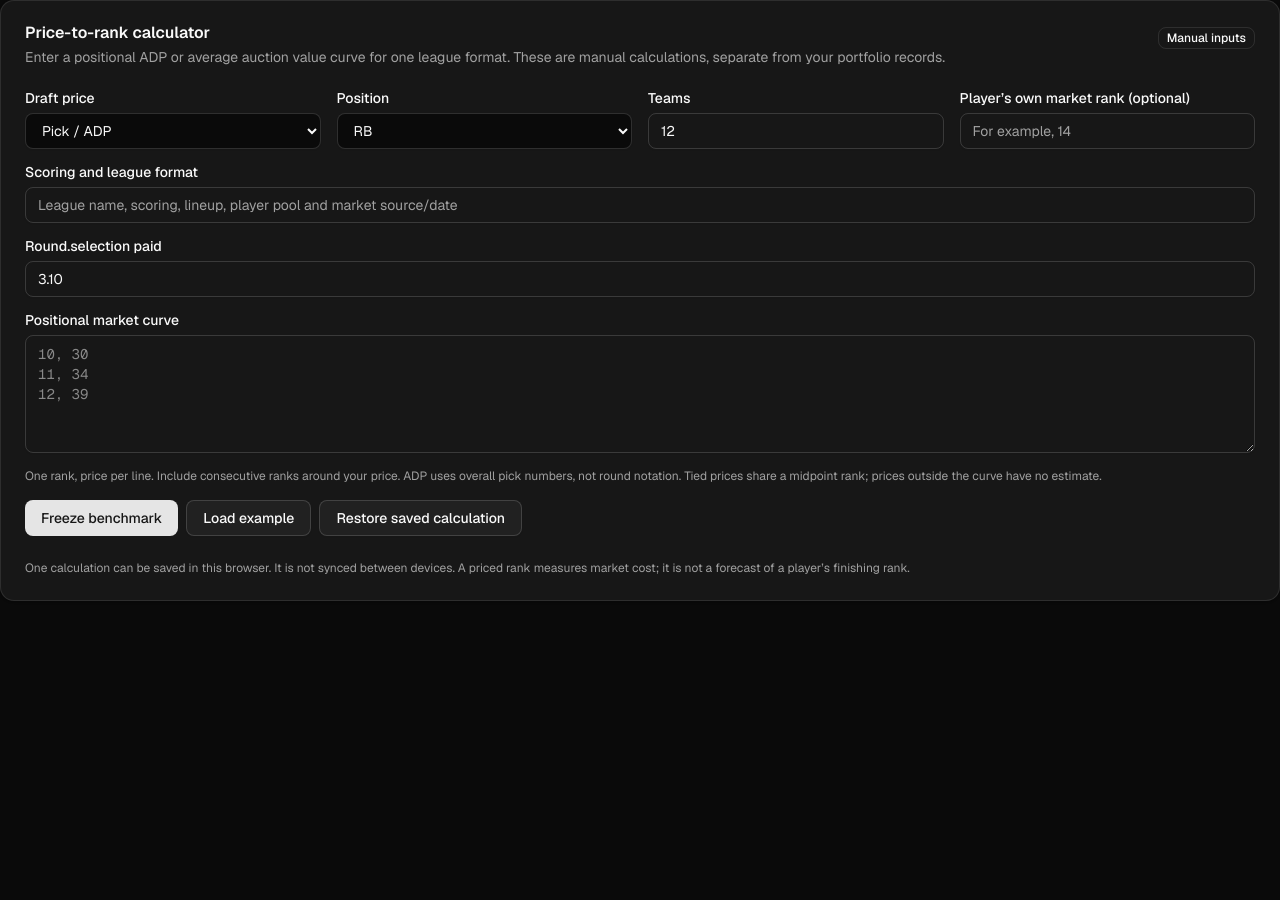
Test: DraftValueCalculator › shows input errors and leaves the benchmark editable
Click the button "Freeze benchmark" at (102, 518), box x1=25 y1=500 x2=178 y2=536
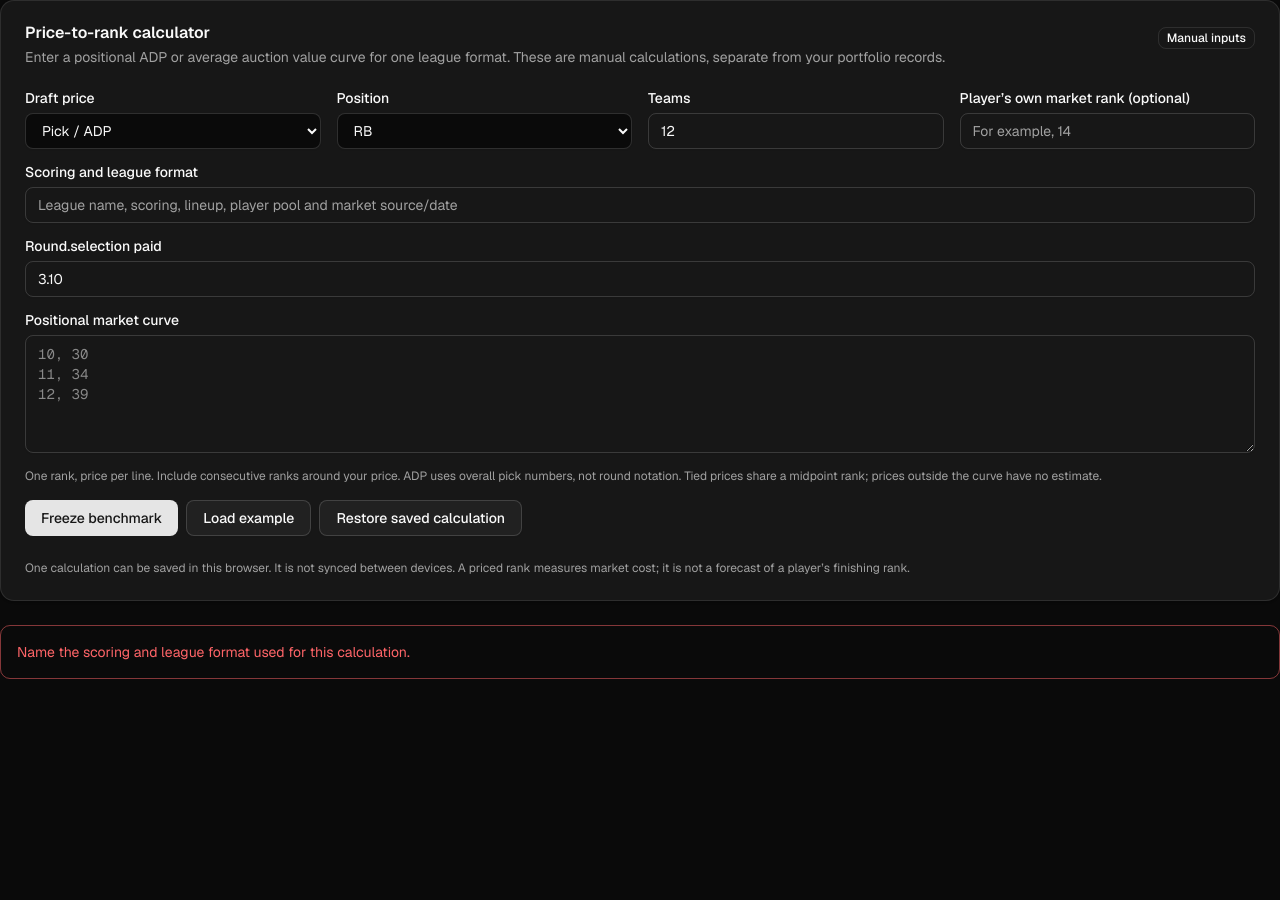
Expected: the text box labelled "Positional market curve" is enabled, x1=25 y1=335 x2=1255 y2=453
Expected: the message shows "Name the scoring", x1=17 y1=643 x2=410 y2=661
